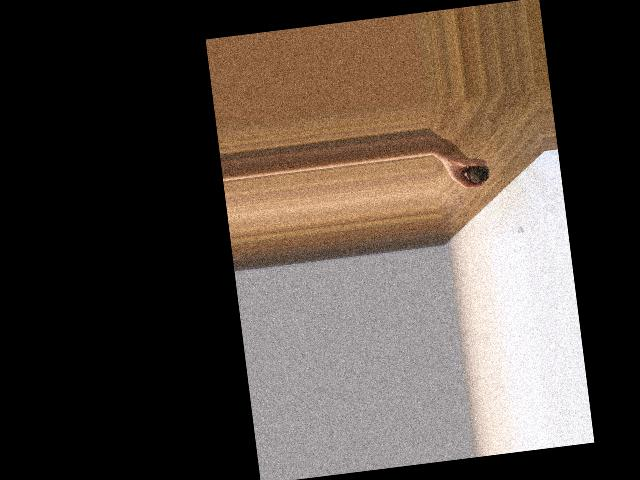beet: (465, 153, 490, 185)
